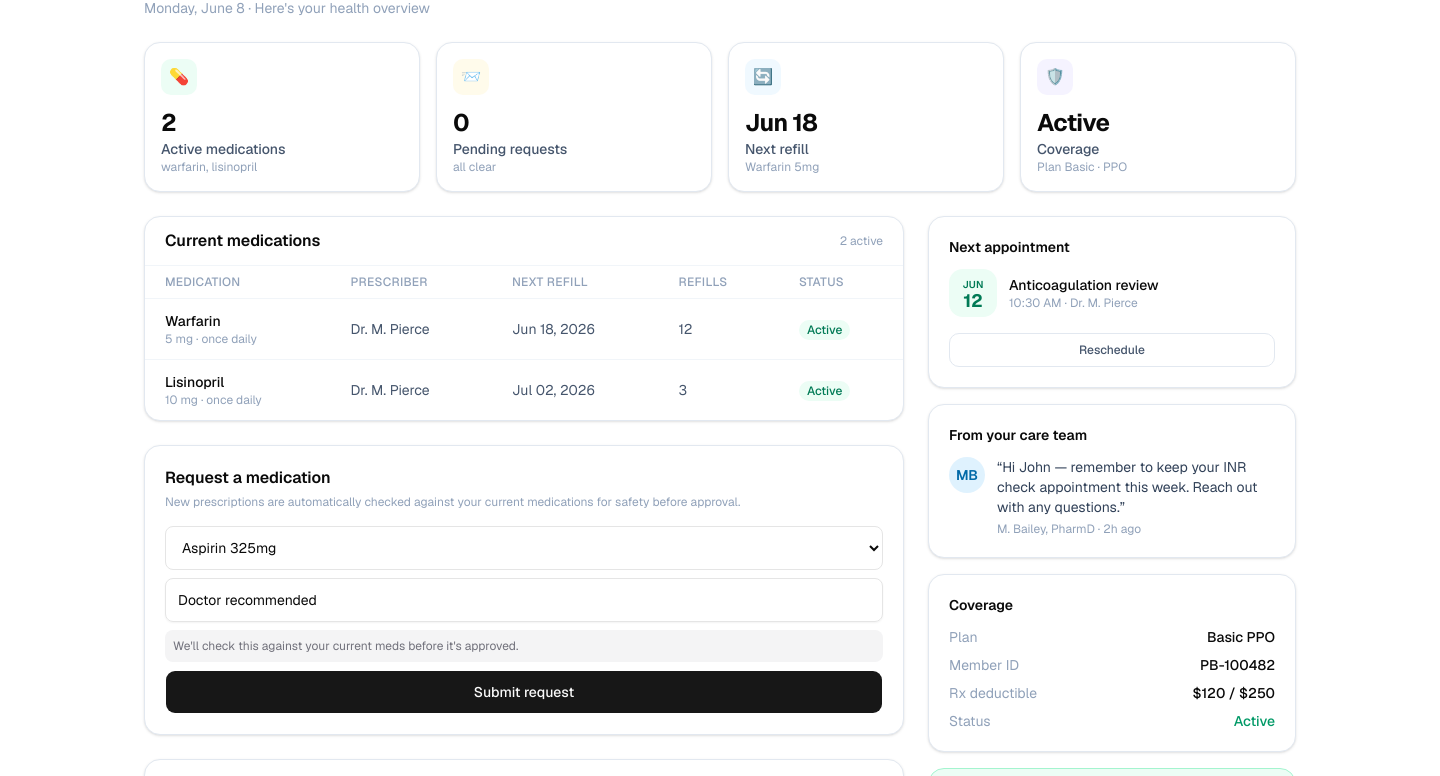
Test: patient streaming submit › animates live nodes on submit
What coordinates should you click on to do the following:
click the button "Submit request"
I would click on:
 (524, 692)
Its box is [165,670,883,714].
(page scrolled)
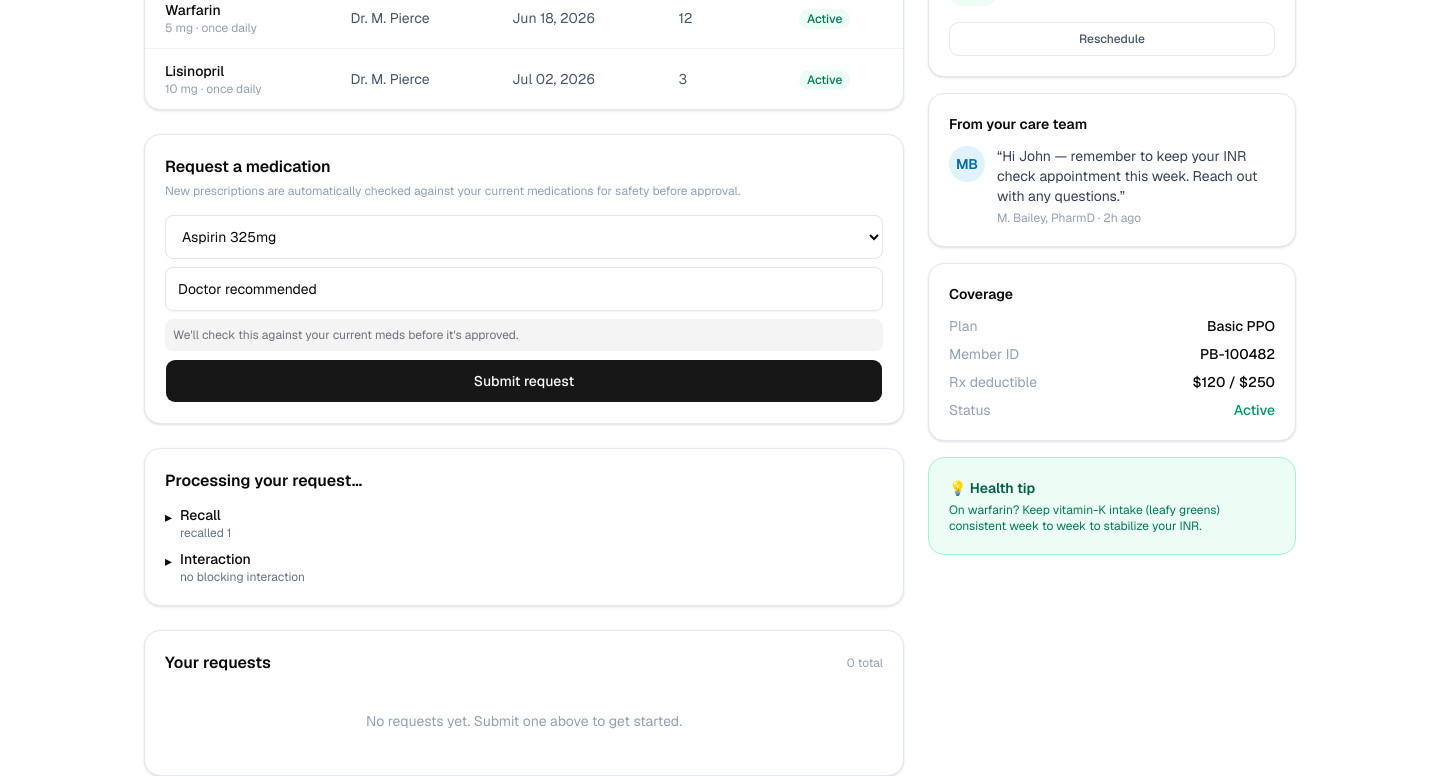
Result: the text "interaction" is shown at [180,550,251,568]
